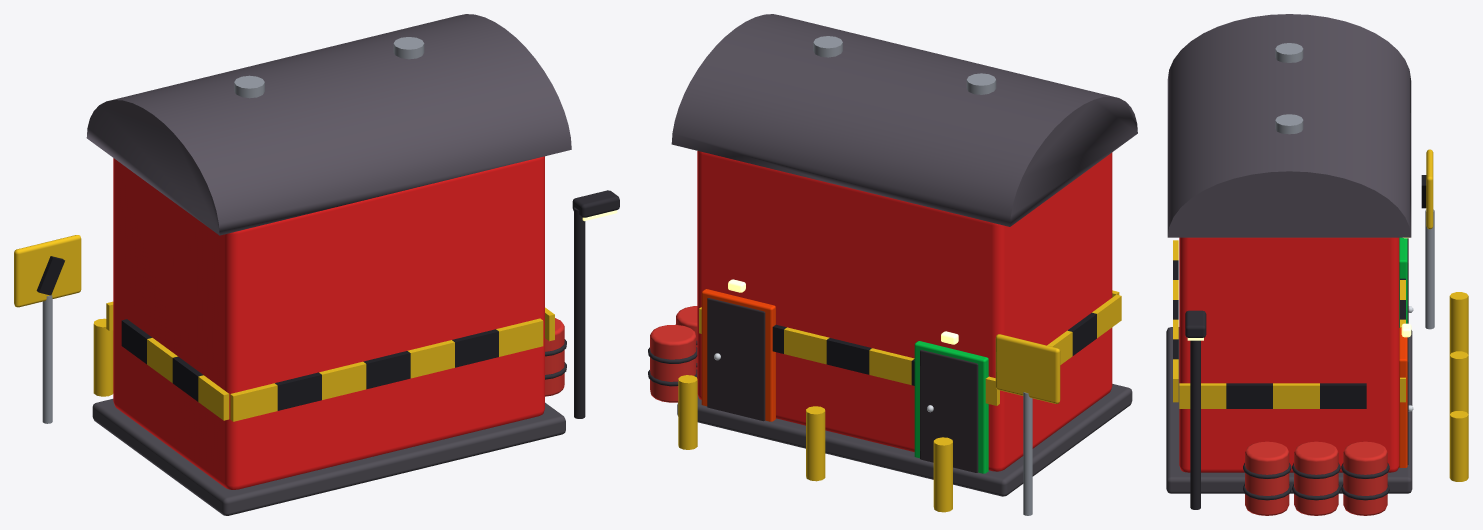
File: building_explosive_warehouse_t2.glb
3 views of the same model, side by side, from view 1: azimuth 30°, elevation 25°; view 2: azimuth 150°, elevation 25°; view 3: azimuth 270°, elevation 25° (orthographic). The views are drawn at different scales.
Parts seen in each view (by area): view 1: Walls, Roof.Barrel, Plinth, Sign.Plate, Lamp.Post, Bollard, Hazard.Seg.007, Sign.Post, Hazard.Seg.011, Hazard.Seg.010, Hazard.Seg.008, Hazard.Seg.013 (+9 smaller); view 2: Walls, Roof.Barrel, Plinth, Exit.Leaf, Entry.Leaf, Bollard, Sign.Plate, Drum0.Drum, Exit.Frame, Entry.Frame, Hazard.Seg.003, Hazard.Seg.004 (+5 smaller); view 3: Roof.Barrel, Walls, Plinth, Bollard, Drum0.Drum, Drum1.Drum, Drum2.Drum, Lamp.Post, Hazard.Seg.019, Hazard.Seg.020, Hazard.Seg.021, Sign.Post (+6 smaller).
Boxes of the visible parts, <box> form: Walls: <box>113,156,544,489</box>; Roof.Barrel: <box>86,14,571,235</box>; Plinth: <box>92,399,565,515</box>; Sign.Plate: <box>14,235,81,307</box>; Lamp.Post: <box>574,207,585,418</box>; Bollard: <box>93,318,113,396</box>; Hazard.Seg.007: <box>230,383,277,421</box>; Sign.Post: <box>42,295,52,423</box>; Hazard.Seg.011: <box>407,340,454,378</box>; Hazard.Seg.010: <box>363,351,410,389</box>; Hazard.Seg.008: <box>275,372,321,410</box>; Hazard.Seg.013: <box>496,318,543,356</box>; Walls: <box>697,151,1112,471</box>; Roof.Barrel: <box>671,14,1137,226</box>; Plinth: <box>677,384,1132,496</box>; Exit.Leaf: <box>707,298,765,421</box>; Entry.Leaf: <box>920,350,978,472</box>; Bollard: <box>678,375,952,512</box>; Sign.Plate: <box>995,334,1060,403</box>; Drum0.Drum: <box>650,324,696,402</box>; Exit.Frame: <box>701,289,775,421</box>; Entry.Frame: <box>914,341,988,473</box>; Hazard.Seg.003: <box>826,338,871,374</box>; Hazard.Seg.004: <box>784,327,829,364</box>; Roof.Barrel: <box>1167,14,1411,237</box>; Walls: <box>1179,237,1399,472</box>; Plinth: <box>1166,327,1412,493</box>; Bollard: <box>1449,292,1468,481</box>; Drum0.Drum: <box>1343,441,1387,515</box>; Drum1.Drum: <box>1294,441,1338,515</box>; Drum2.Drum: <box>1245,441,1289,515</box>; Lamp.Post: <box>1190,340,1200,509</box>; Hazard.Seg.019: <box>1226,383,1272,408</box>; Hazard.Seg.020: <box>1273,383,1319,408</box>; Hazard.Seg.021: <box>1320,383,1366,408</box>; Sign.Post: <box>1425,209,1434,329</box>.
Size of the model in its own units: 4.28 by 3.15 by 2.58.
